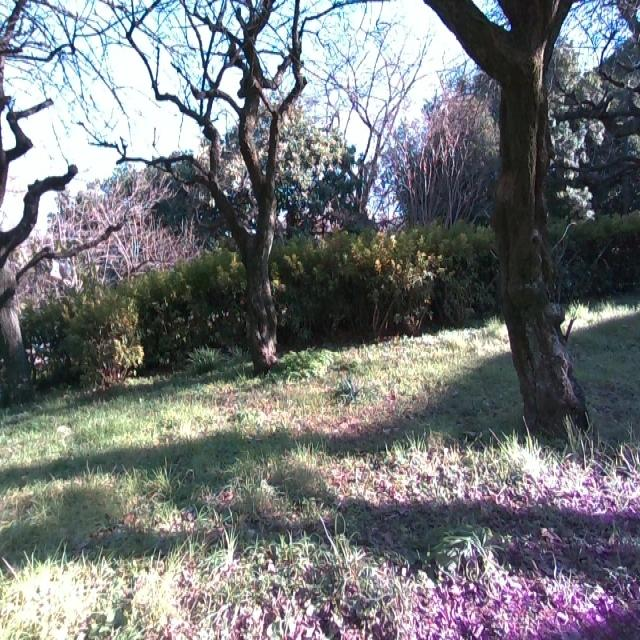bush: (32, 208, 640, 388)
tree: (419, 0, 612, 453), (110, 0, 334, 387), (0, 0, 72, 333)
